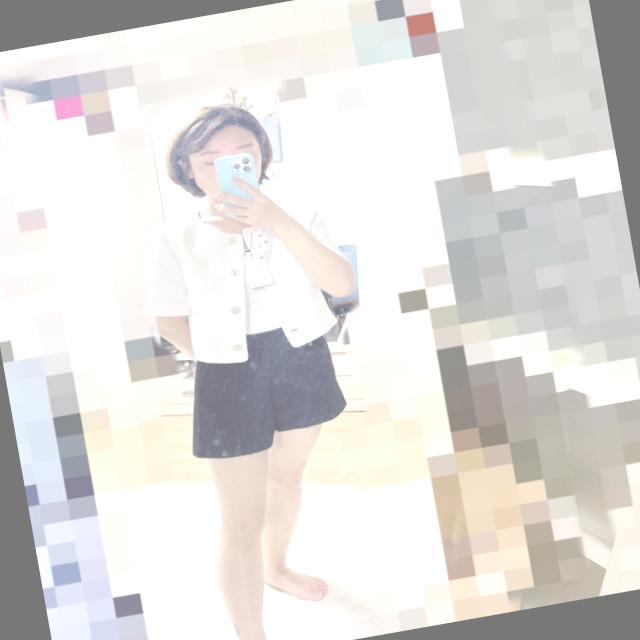blazer: (128, 184, 356, 376)
shortpants: (172, 316, 353, 466)
